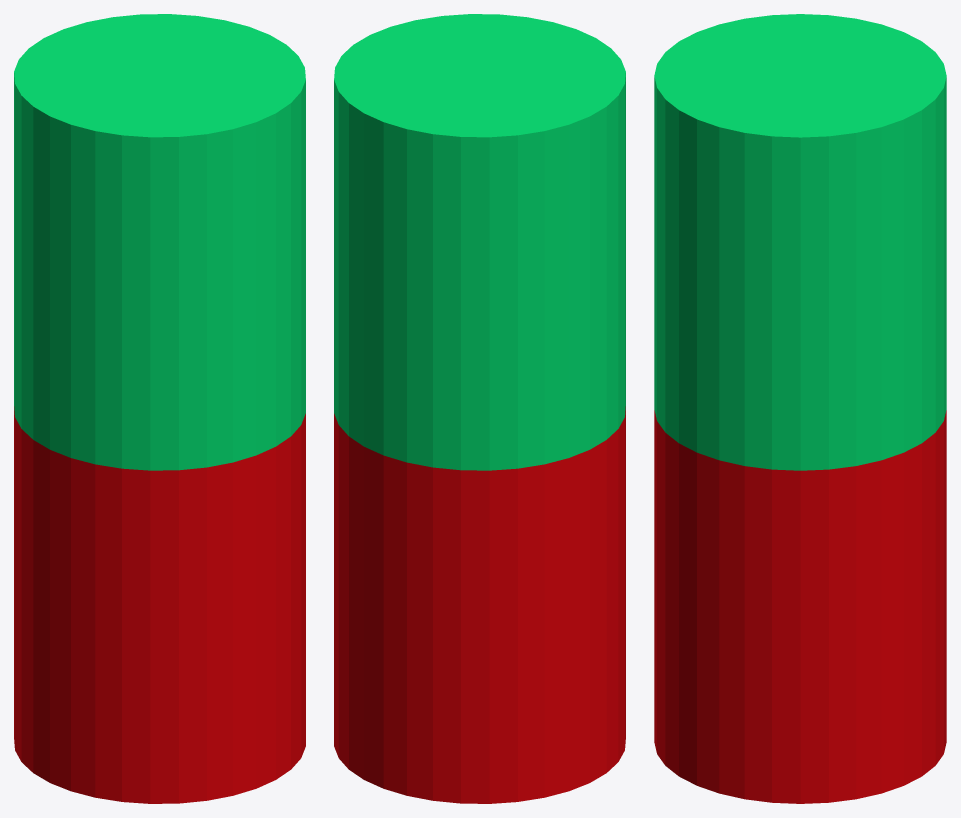
File: coloured_clarke.dae
The picture shows the model from 3 angles, left to right: view 1: azimuth 30°, elevation 25°; view 2: azimuth 150°, elevation 25°; view 3: azimuth 270°, elevation 25°; orthographic projection.
Parts seen in each view (by area): view 1: Cylinder.001, Cylinder; view 2: Cylinder.001, Cylinder; view 3: Cylinder.001, Cylinder.
Boxes of the visible parts, left/top/right/bottom form: Cylinder.001: left=14, top=14, right=305, bottom=470; Cylinder: left=14, top=406, right=305, bottom=803; Cylinder.001: left=334, top=14, right=625, bottom=470; Cylinder: left=334, top=406, right=625, bottom=803; Cylinder.001: left=654, top=14, right=946, bottom=470; Cylinder: left=654, top=410, right=946, bottom=803.
Size of the model in its own units: 0.2222 by 0.2222 by 0.5588.
